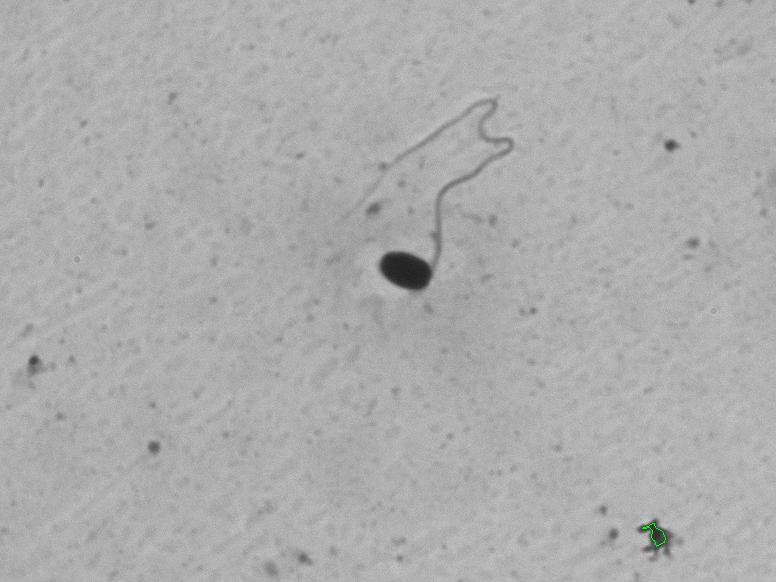Abnormal: (312, 66, 587, 347)
